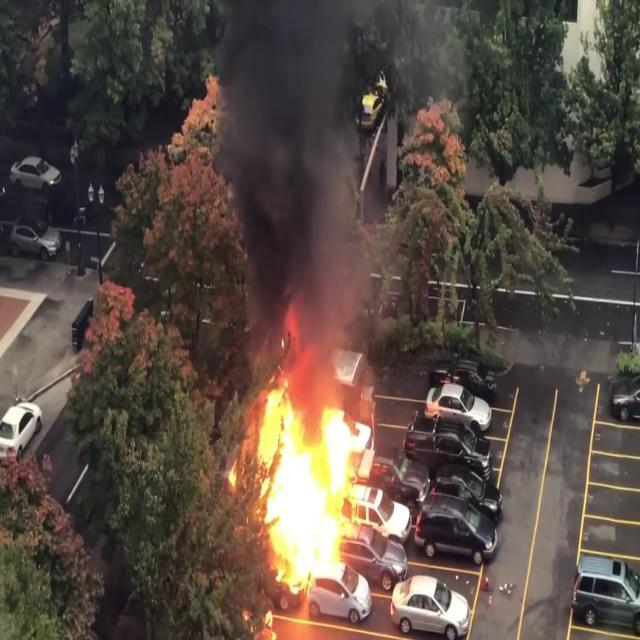Fire: (240, 359, 384, 602)
Smoke: (204, 1, 388, 346)
